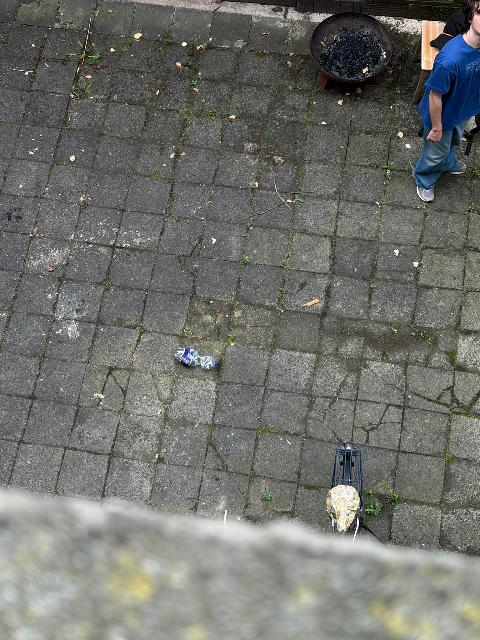plastic_bottle: (175, 347, 218, 369)
